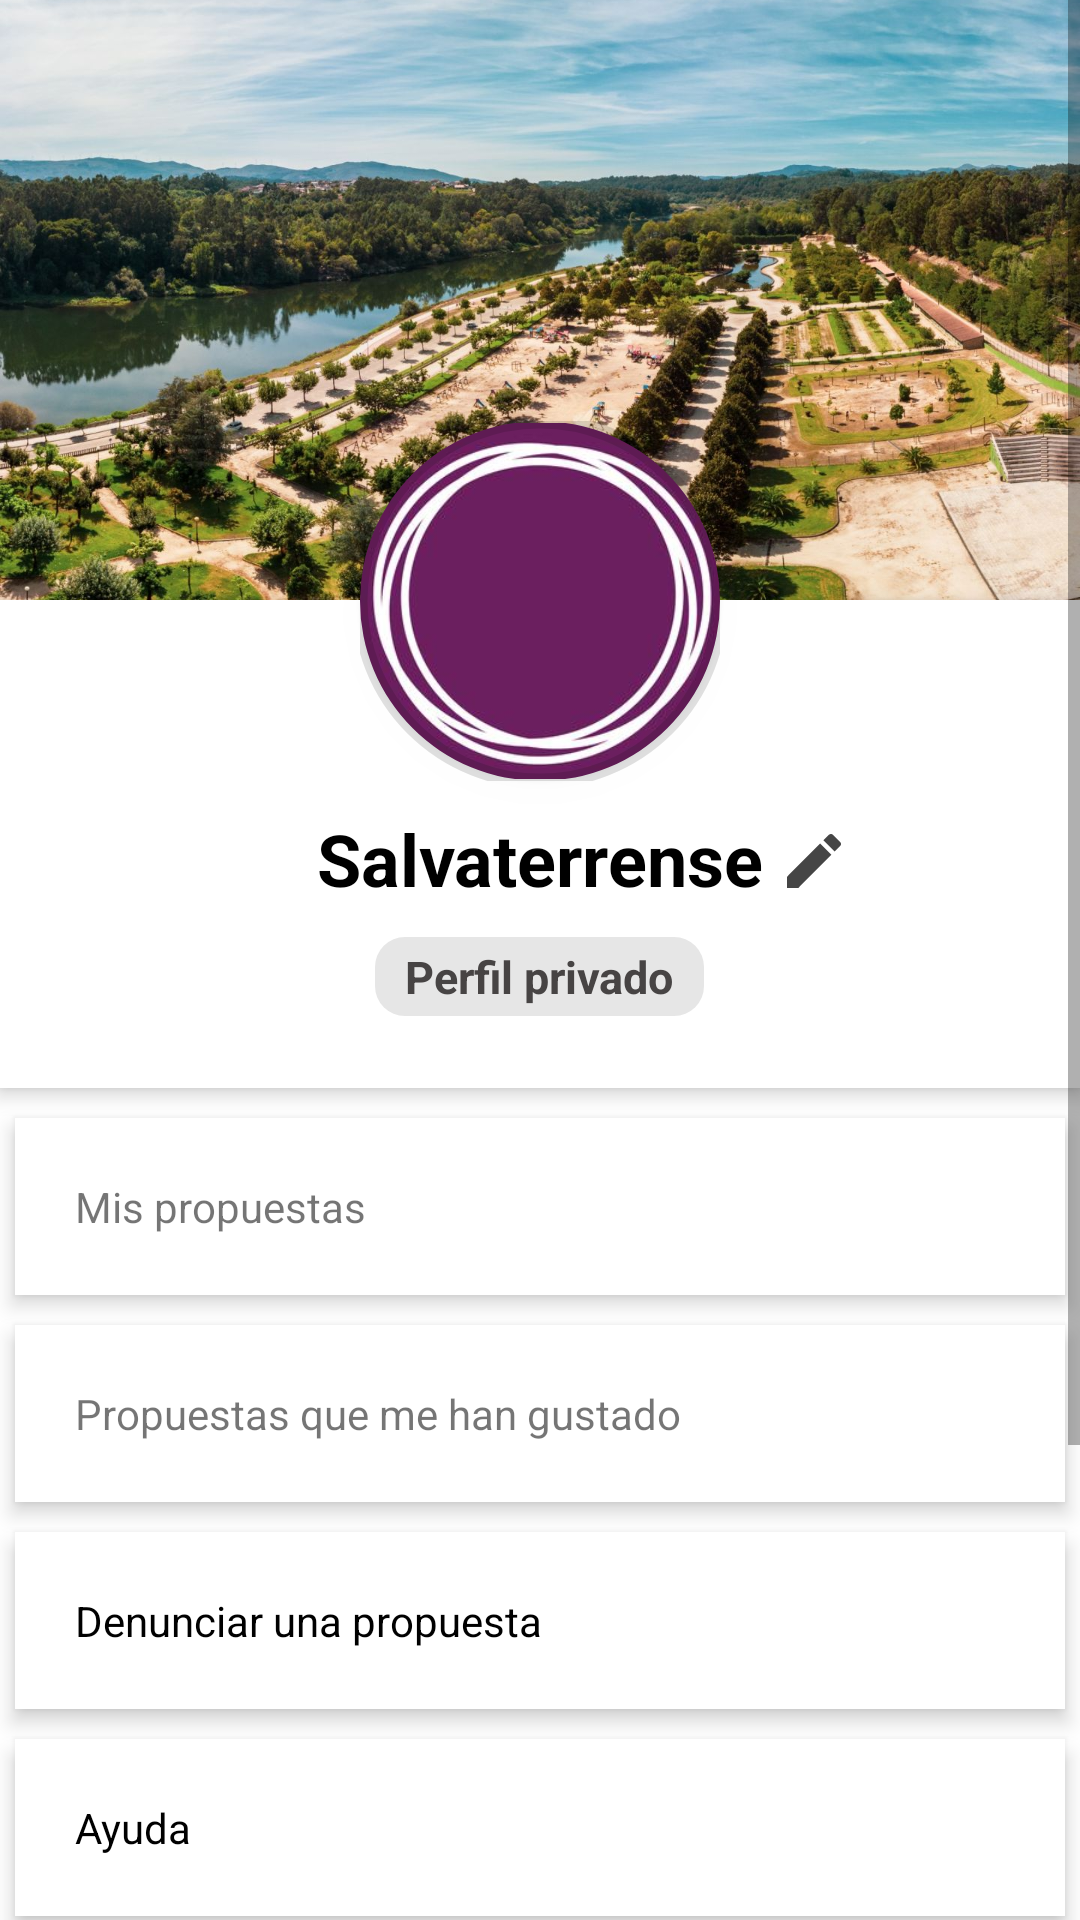

Screen size 1080px x 1920px. Icon name, then its center in pixels as (x=x, y=y):
defaultpic: (x=540, y=601)
Editar nombre: (x=814, y=861)
